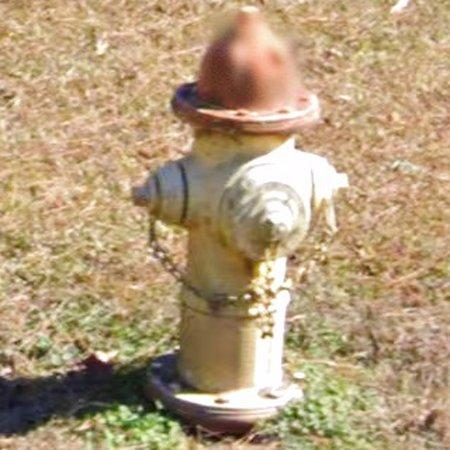a fire hydrant: (132, 10, 349, 433)
